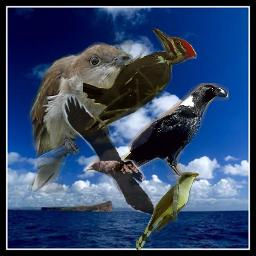Crow: (62, 94, 160, 219), (107, 83, 229, 181)
Cuckoo: (27, 42, 133, 193), (136, 172, 199, 250)
Woodpecker: (83, 28, 197, 133)
